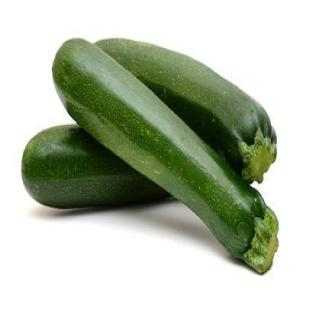Zucchini: (53, 39, 277, 272), (97, 39, 276, 182), (22, 125, 168, 207)
